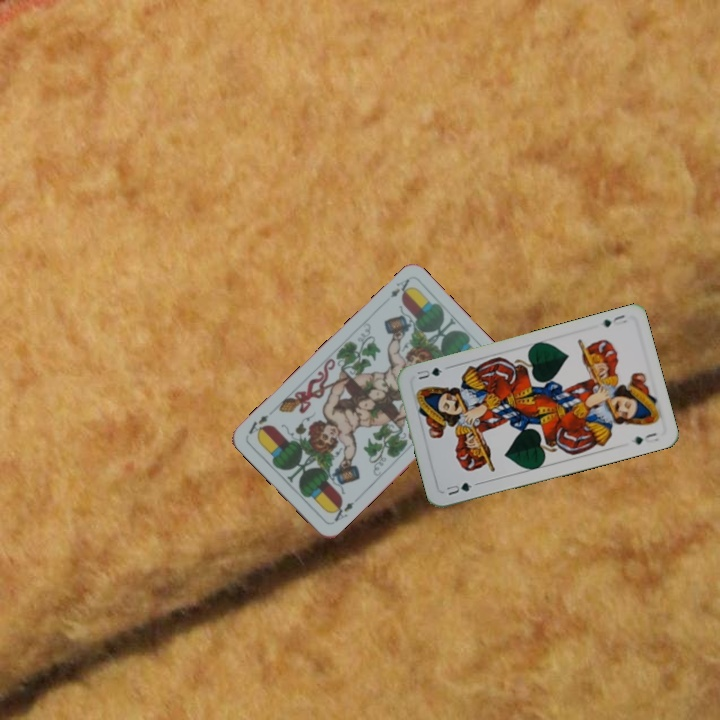EA: (327, 497, 357, 526), (387, 275, 415, 300)
GU: (442, 478, 474, 498), (598, 311, 630, 330)
